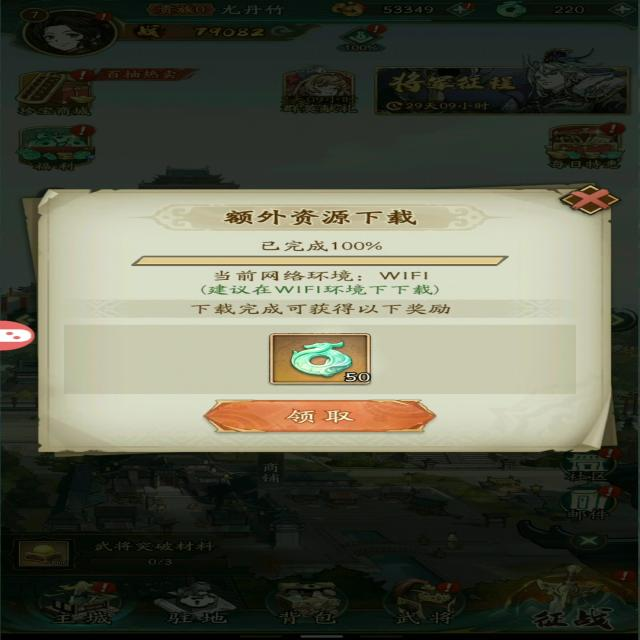operation-close: (539, 177, 640, 213)
operation-enter: (194, 403, 456, 443)
